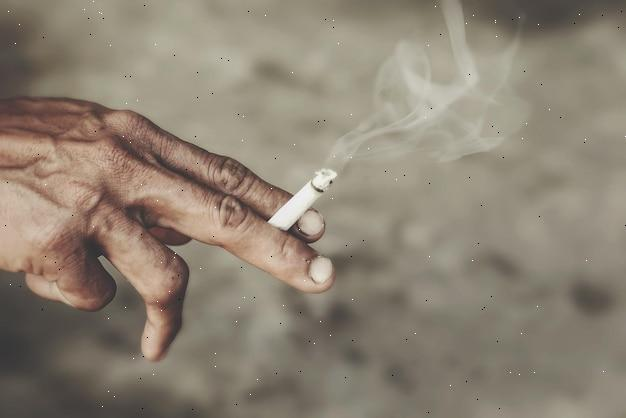cigarette: (268, 169, 337, 231)
